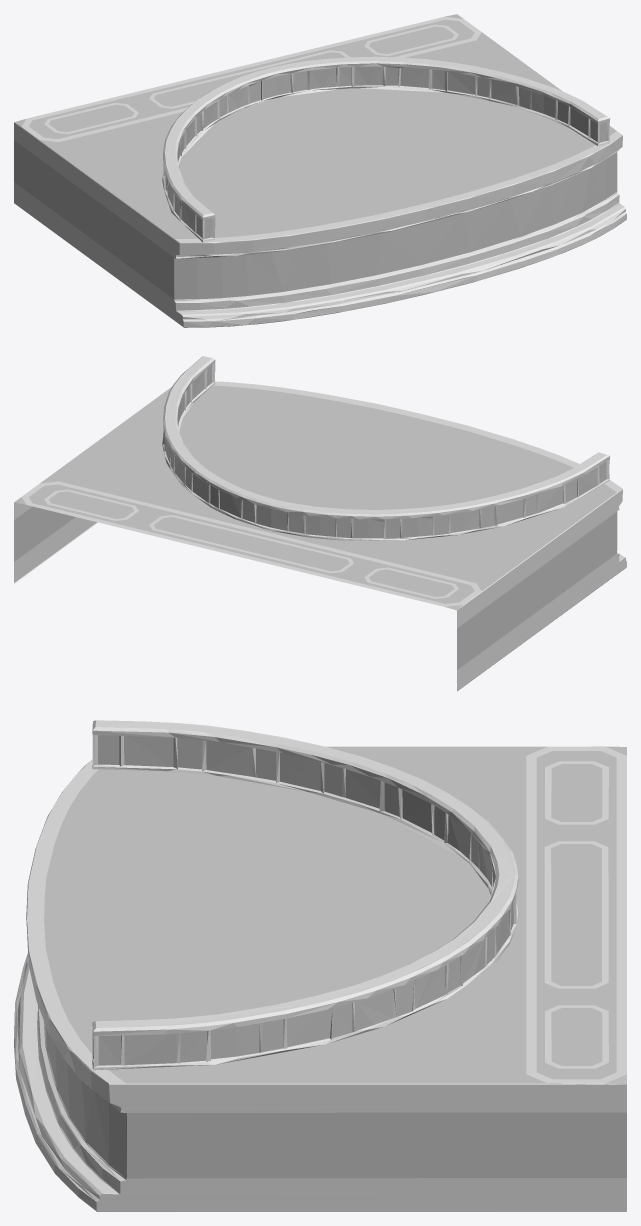
Rendered from AlcoveTrimHeights_01_Lod3.fbx.
The picture shows the model from 3 angles, top to bottom: view 1: azimuth 30°, elevation 25°; view 2: azimuth 150°, elevation 25°; view 3: azimuth 270°, elevation 25°; orthographic projection. The views are drawn at different scales.
Visible parts, largest first — view 1: S_Sunforged_AlcoveTrimHeights_01_Lod2.mo; view 2: S_Sunforged_AlcoveTrimHeights_01_Lod2.mo; view 3: S_Sunforged_AlcoveTrimHeights_01_Lod2.mo.
Boxes of the visible parts, x1,y1,x2,y2 form: S_Sunforged_AlcoveTrimHeights_01_Lod2.mo: (14,14,626,327); S_Sunforged_AlcoveTrimHeights_01_Lod2.mo: (14,356,626,691); S_Sunforged_AlcoveTrimHeights_01_Lod2.mo: (14,720,626,1211).
Bounding box in the file's own units: 656 × 153 × 502.
